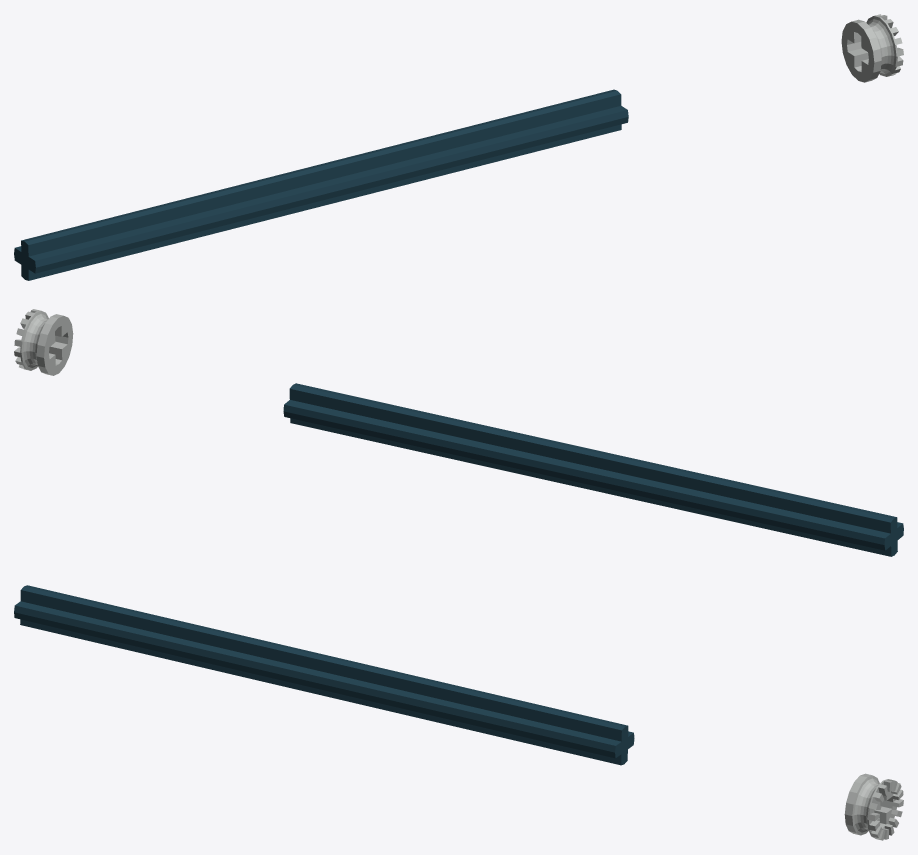
The picture shows the model from 3 angles, top to bottom: view 1: azimuth 30°, elevation 25°; view 2: azimuth 150°, elevation 25°; view 3: azimuth 330°, elevation 25°; orthographic projection.
Visible parts, largest first — view 1: Piece000, Piece001; view 2: Piece000, Piece001; view 3: Piece000, Piece001.
Boxes of the visible parts, <box> form: Piece000: <box>14,89,628,280</box>; Piece001: <box>841,14,903,82</box>; Piece000: <box>283,383,903,556</box>; Piece001: <box>14,309,73,375</box>; Piece000: <box>14,585,634,765</box>; Piece001: <box>844,773,903,840</box>.
Bounding box in the file's own units: 290 × 18.05 × 20.65.
